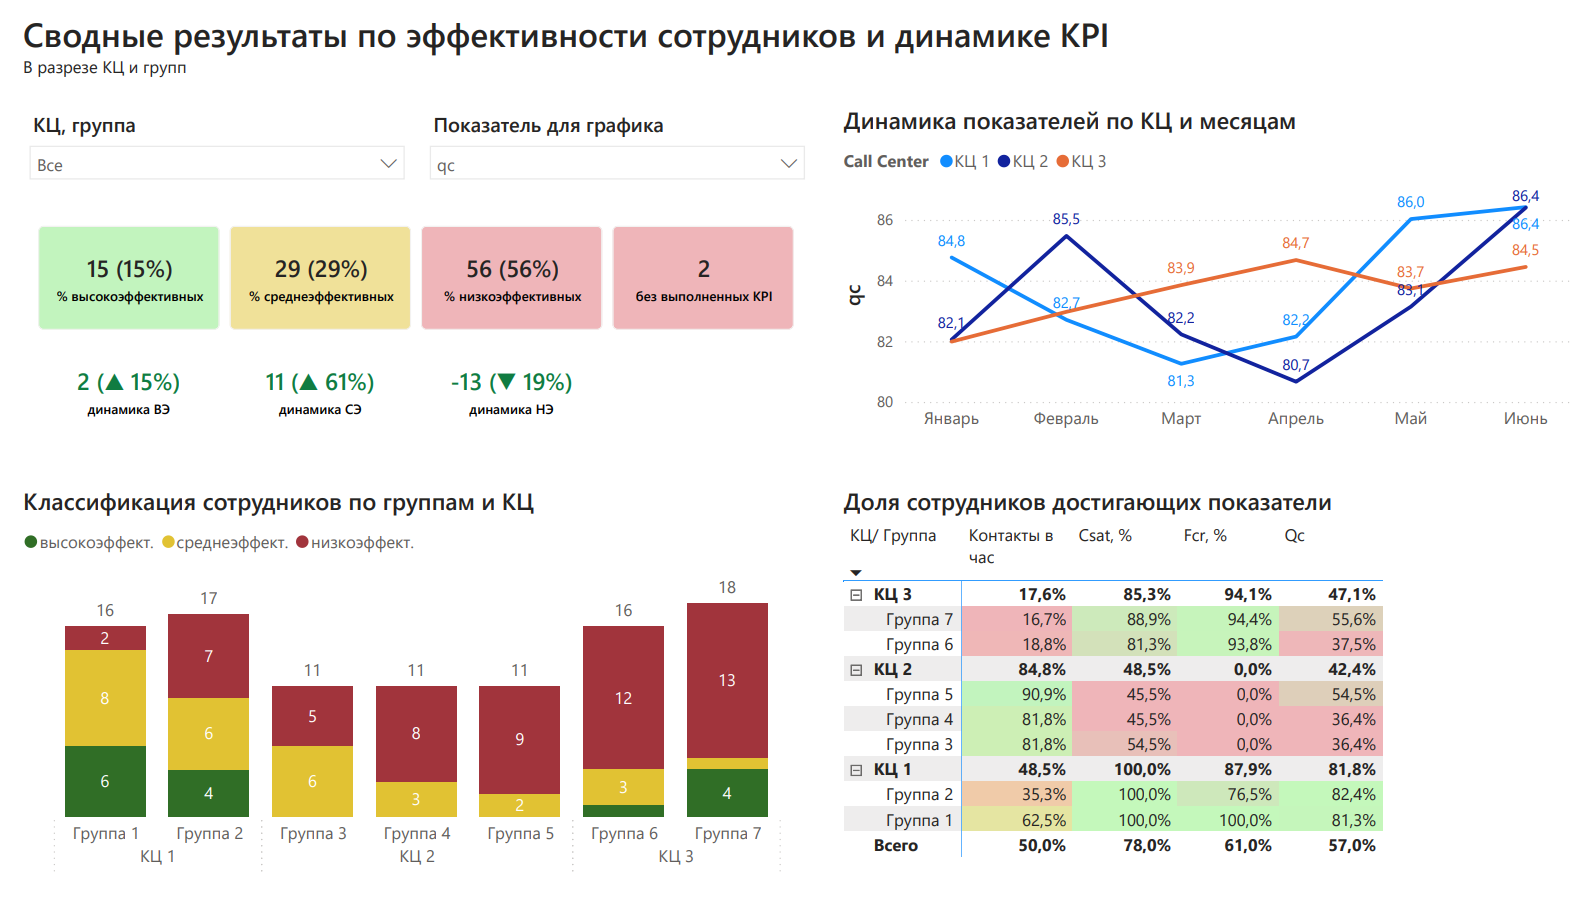

Layout of this report page (visuals, bound fields, positions):
{"tool":"powerbi","page":{"name":"Сводные результаты","canvas":[1280,720],"ordinal":0},"visuals":[{"type":"cardVisual","fields":{"Data":["Perfomance.% высокоэф.","Perfomance.% среднеэф.","Perfomance.% низкоэфф.","Perfomance.сотрудников без выполнения","Perfomance.динамика ВЭ","Perfomance.динамика_СЭ","Perfomance.динамика НЭ"]},"box":[16,160,640,208],"z":0},{"type":"pivotTable","title":"Доля сотрудников достигающих показатели","fields":{"Rows":["Page 1.КЦ","Page 1.Группа"],"Values":["Perfomance.Доля_достижения_Контакты","Perfomance.Доля_достижения_csat","Perfomance.Доля_достижения_fcr","Perfomance.Доля_достижения_qc"]},"box":[672,384,592,320],"z":1000},{"type":"columnChart","title":"Классификация сотрудников по группам и КЦ","fields":{"Category":["Perfomance.КЦ","Perfomance.Группа"],"Y":["Perfomance.Высокоэф. сотр. текущ. период","Perfomance.Среднэф. сотр. текущ. период","Perfomance.Низкоэф. текущ. период"]},"box":[16,384,640,320],"z":3000},{"type":"lineChart","title":"Динамика показателей по КЦ и месяцам","fields":{"Category":["Results.Month.Изменение.Иерархия дат.Месяц"],"Series":["Results.Call Center"],"Y":["Perfomance.QC для графика"]},"box":[672,80,592,288],"z":4000},{"type":"slicer","fields":{"Values":["Выбор показателя.Выбор показателя"]},"box":[336,80,320,64],"z":5000},{"type":"slicer","fields":{"Values":["Results.Call Center","Results.Group"]},"box":[16,80,320,64],"z":6000},{"type":"textbox","box":[16,0,1248,64],"z":7000}]}

Visuals, with their boxes in screenshot pixels (x1, y1, x2, y2), scaled from the page's 1280x720 canvas onto the 1592x907 screenshot:
cardVisual - Perfomance.% высокоэф. x Perfomance.% среднеэф.: [left=20, top=202, right=816, bottom=464]
"Доля сотрудников достигающих показатели" pivotTable: [left=836, top=484, right=1572, bottom=887]
"Классификация сотрудников по группам и КЦ" columnChart: [left=20, top=484, right=816, bottom=887]
"Динамика показателей по КЦ и месяцам" lineChart: [left=836, top=101, right=1572, bottom=464]
slicer - Выбор показателя.Выбор показателя: [left=418, top=101, right=816, bottom=181]
slicer - Results.Call Center x Results.Group: [left=20, top=101, right=418, bottom=181]
textbox: [left=20, top=0, right=1572, bottom=81]
